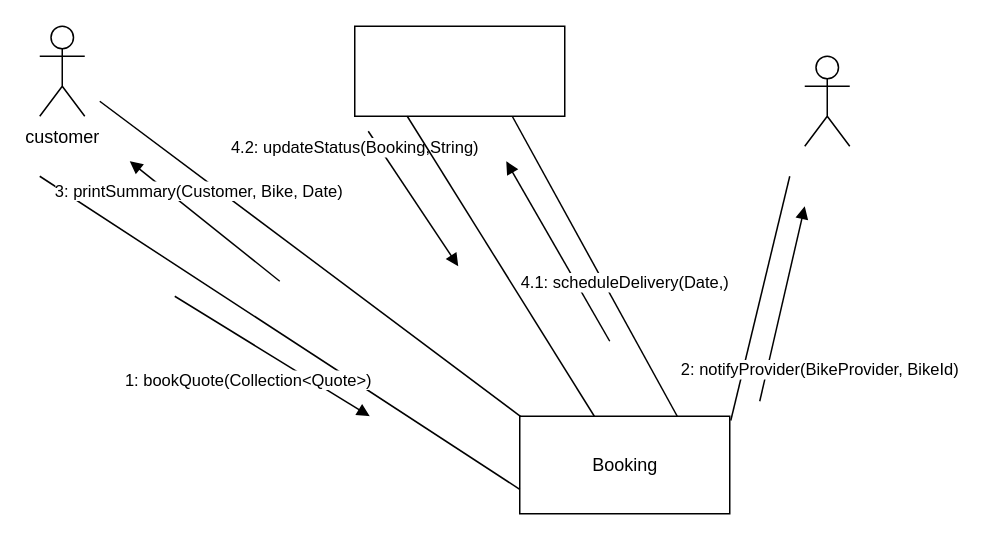
Image size: 984x540. Some labels were removed from this diagram. The centre of each missing label's shape, as x and y in pixels:
"DeliveryService" belongs at (459,70).
"provider" belongs at (826,100).
